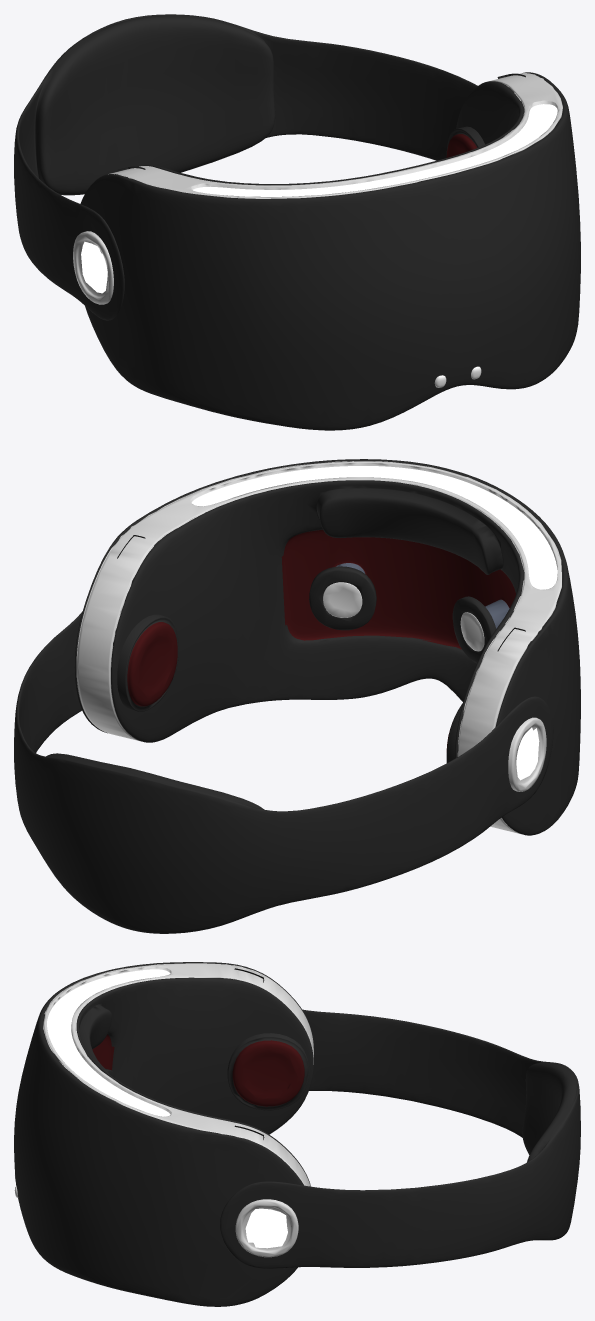
Rendered from vr-headset.glb.
The picture shows the model from 3 angles, top to bottom: view 1: azimuth 30°, elevation 25°; view 2: azimuth 150°, elevation 25°; view 3: azimuth 270°, elevation 25°; orthographic projection. The views are drawn at different scales.
Parts seen in each view (by area): view 1: Base; view 2: Base; view 3: Base.
Part boxes in pixels (x1,y1,x2,y2): Base: (14,14,580,430); Base: (14,459,580,933); Base: (14,962,580,1306).
Size of the model in its own units: 0.6433 by 0.3279 by 0.846.
